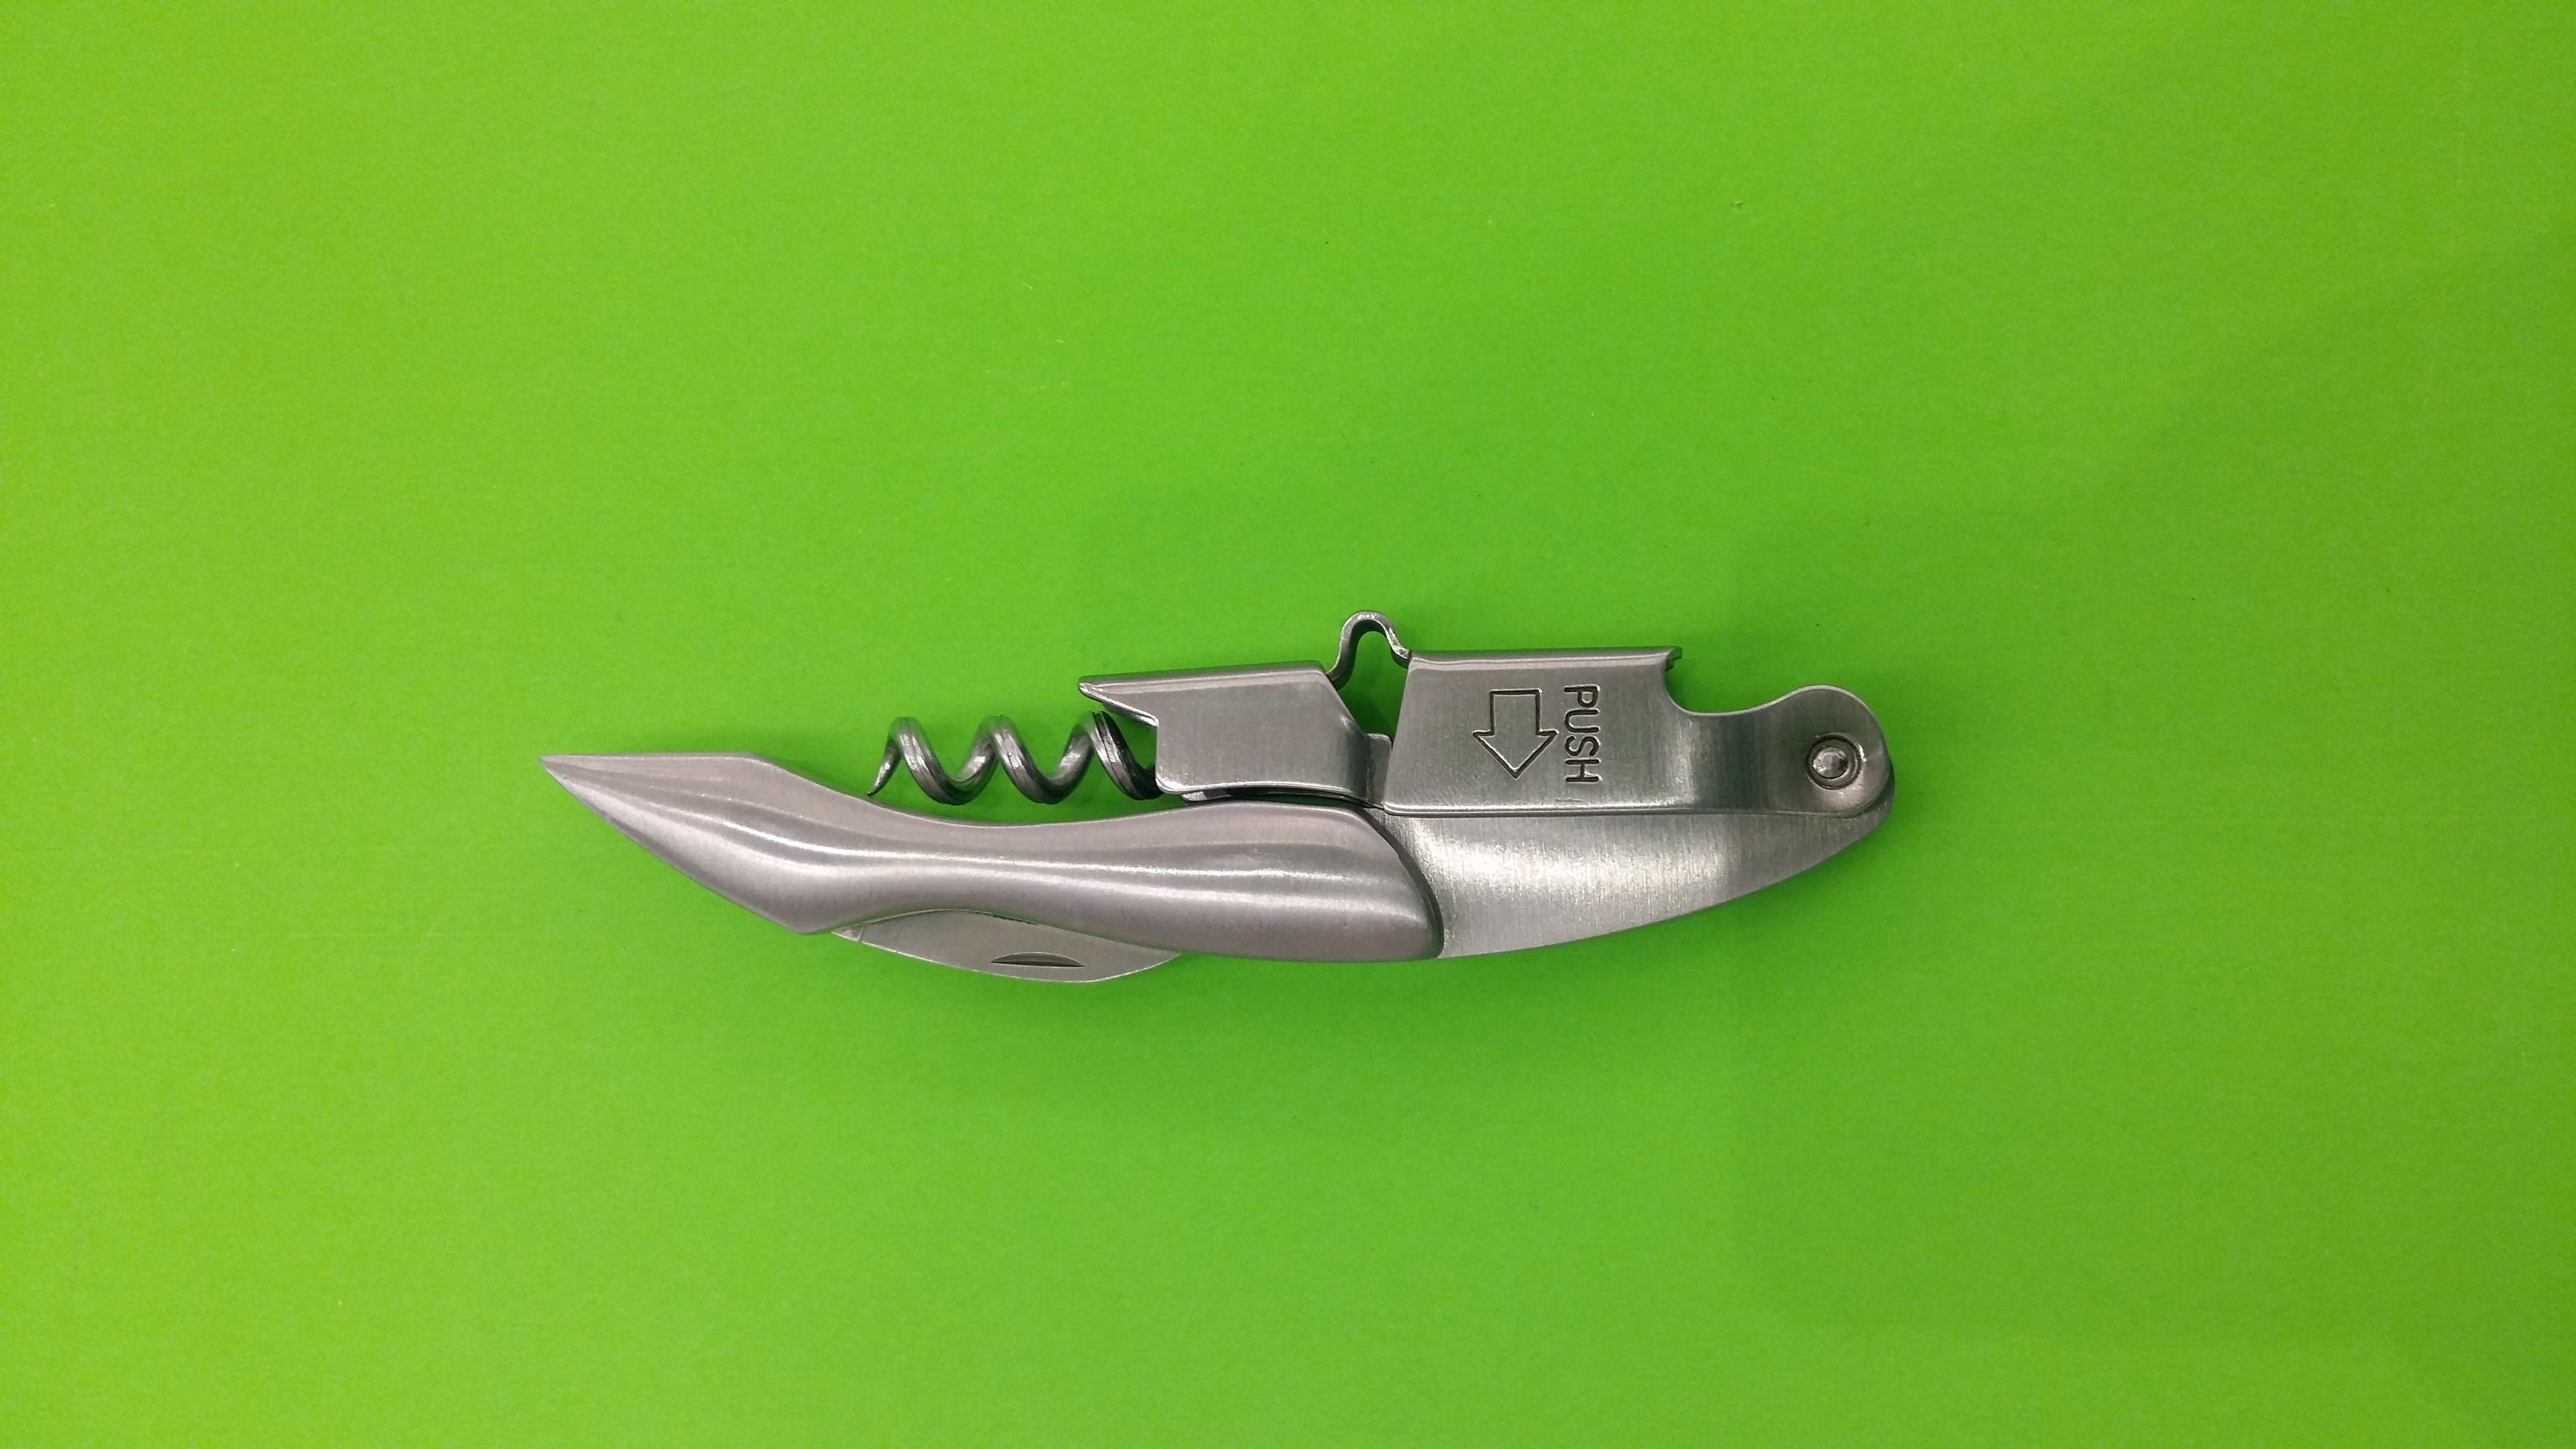bottleopener: (540, 612, 1897, 989)
